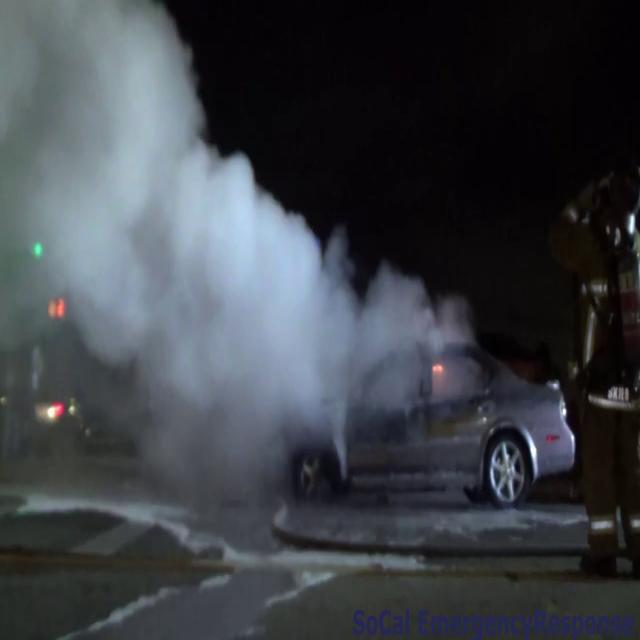Smoke: (176, 143, 476, 501), (0, 0, 224, 443)
